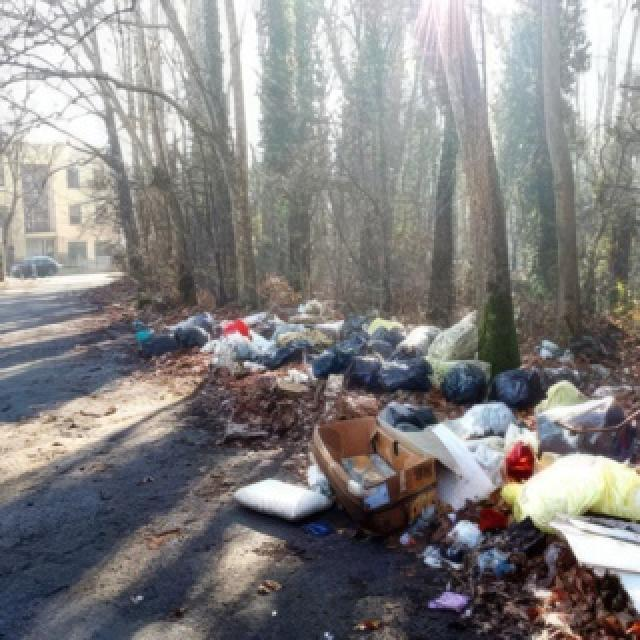Trashbag: (342, 318, 405, 361), (375, 394, 436, 436), (485, 366, 544, 404), (446, 358, 488, 404), (344, 355, 388, 398), (382, 355, 432, 392), (263, 336, 311, 374), (176, 312, 216, 352), (307, 344, 354, 375), (141, 335, 181, 360)
